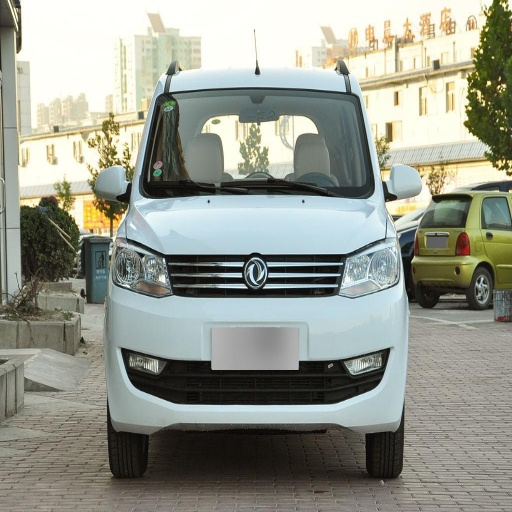front_bumper: (109, 254, 402, 432)
front_right_light: (110, 238, 174, 297)
hood: (126, 197, 384, 255)
left_mirror: (386, 164, 423, 202)
